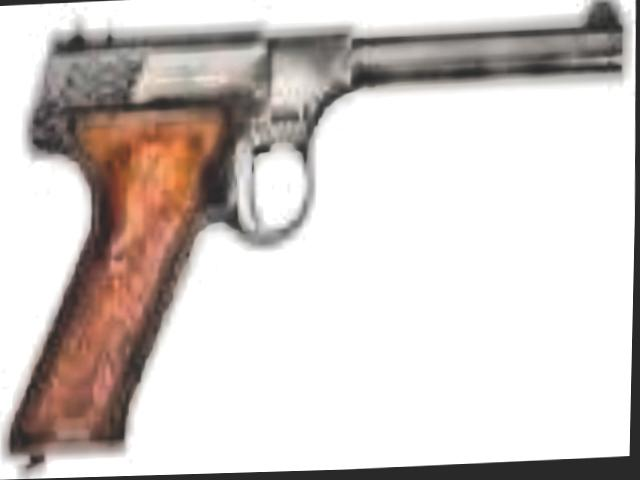pistol: (0, 0, 632, 449)
